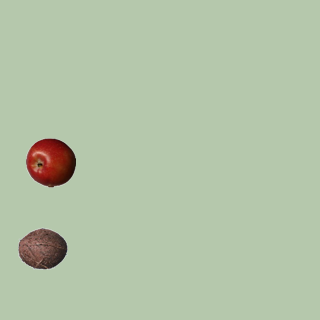Apple Braeburn: (25, 137, 75, 187)
Cocos: (17, 223, 67, 273)
